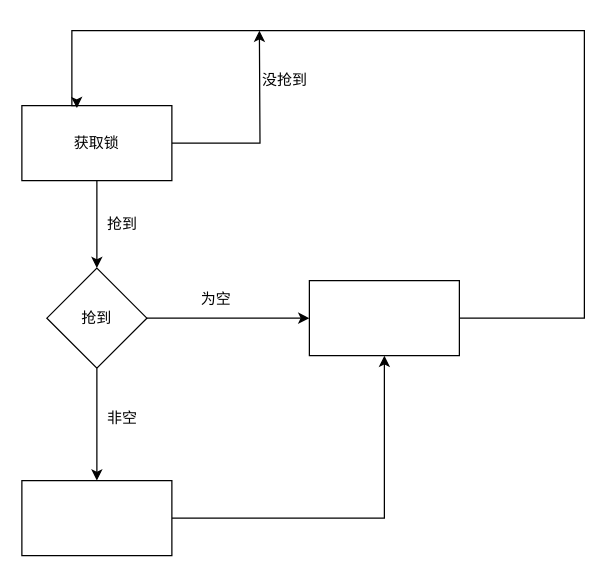
Image size: 616x578. Some labels were removed from this diagram. Each missing label, with the box of its shape:
将资源从队列中取出并消费: (21, 479, 172, 556)
释放锁: (308, 279, 459, 356)
